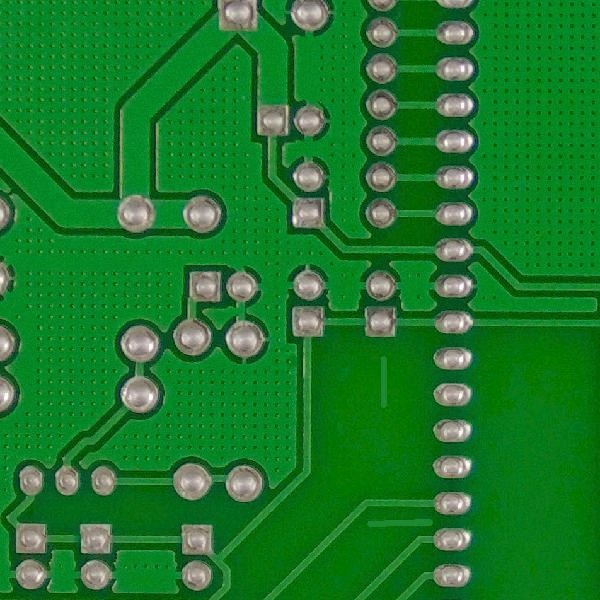spurious_copper: (360, 510, 444, 543), (370, 349, 402, 419)
